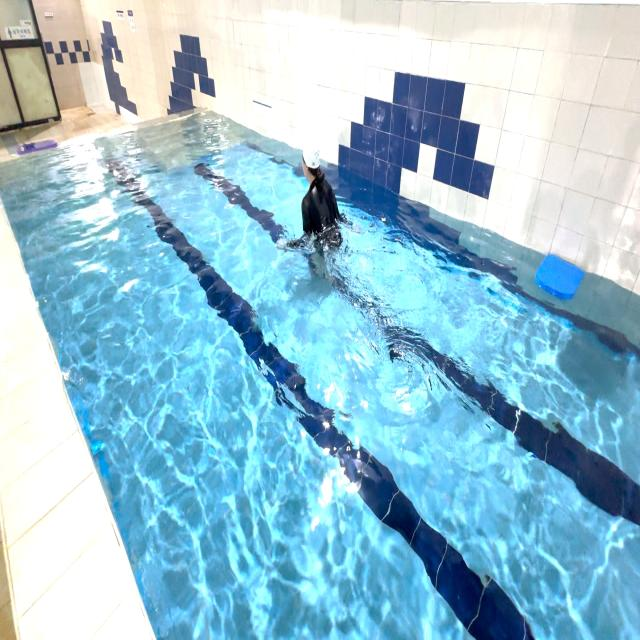Swimming: (271, 118, 372, 300)
